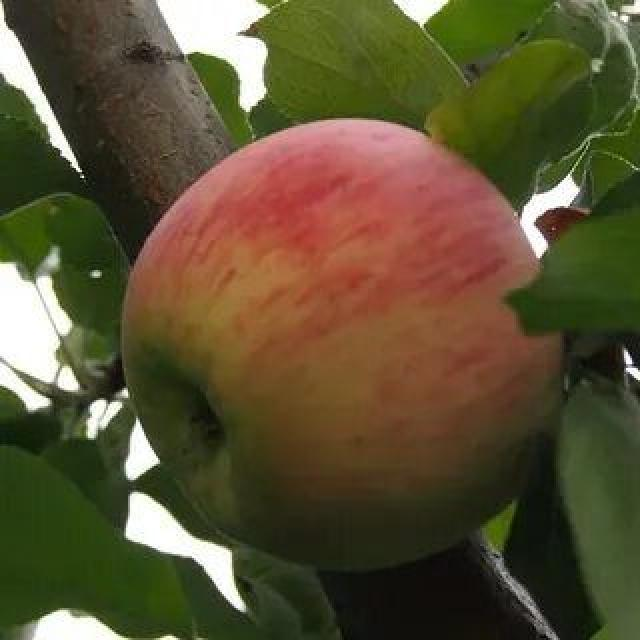Fresh Apple: (124, 126, 570, 550)
